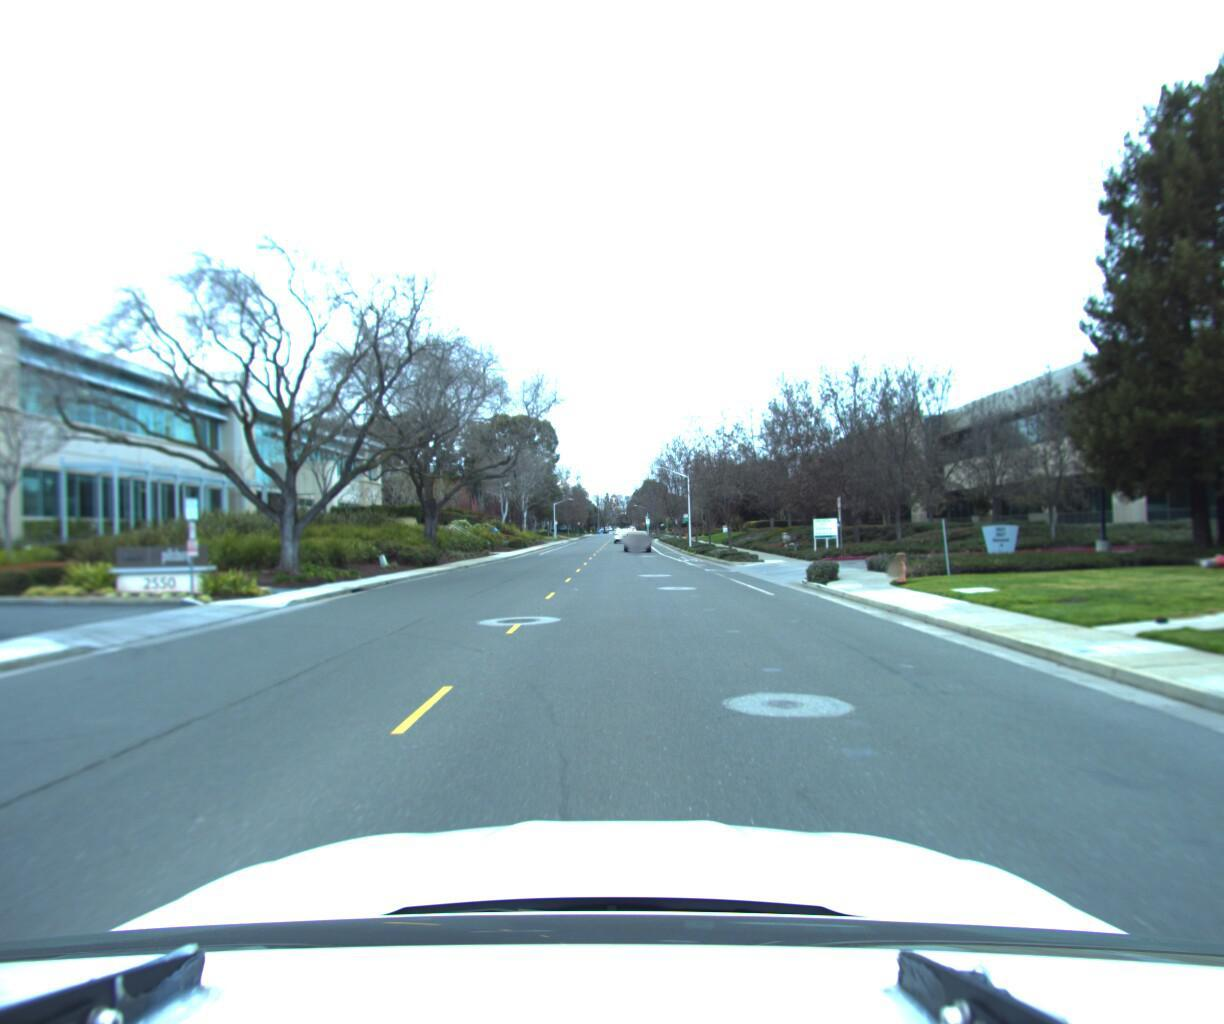car: (623, 526, 652, 547), (615, 525, 634, 539)
